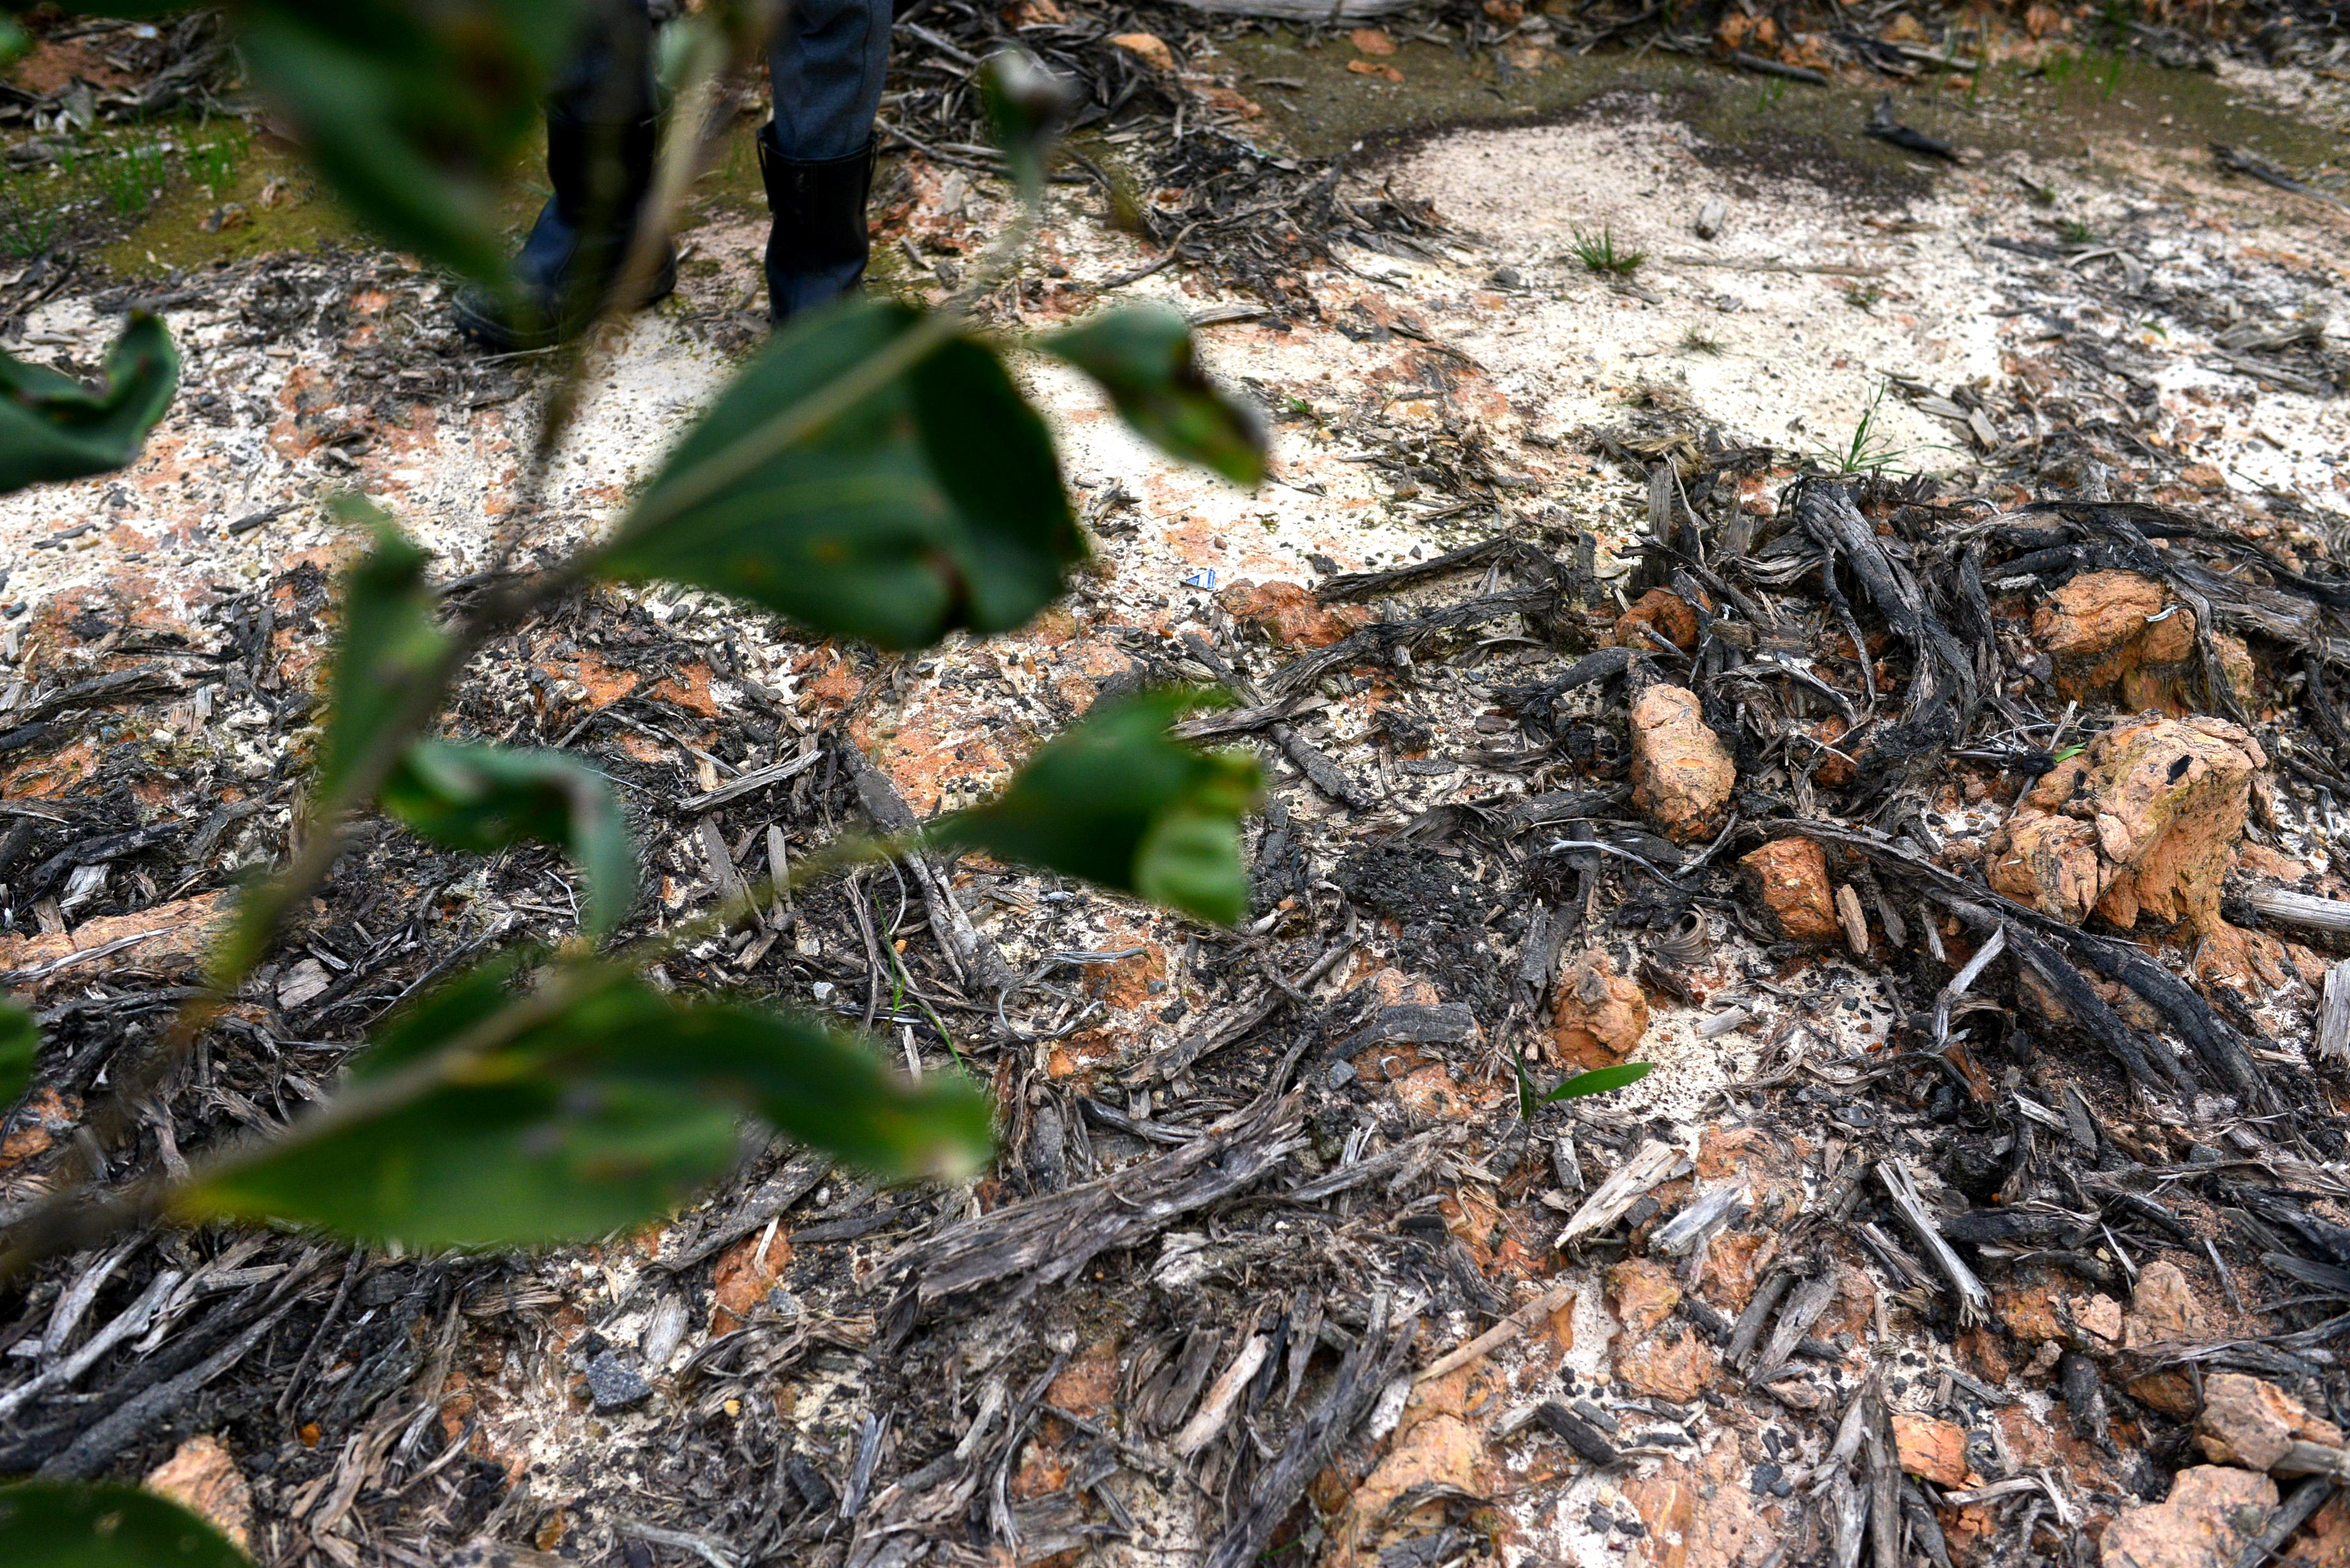Pasalora: (157, 996, 1003, 1265), (646, 278, 1123, 633), (196, 0, 633, 378), (275, 495, 569, 878), (943, 674, 1279, 929), (392, 751, 646, 952), (1134, 275, 1311, 476)
